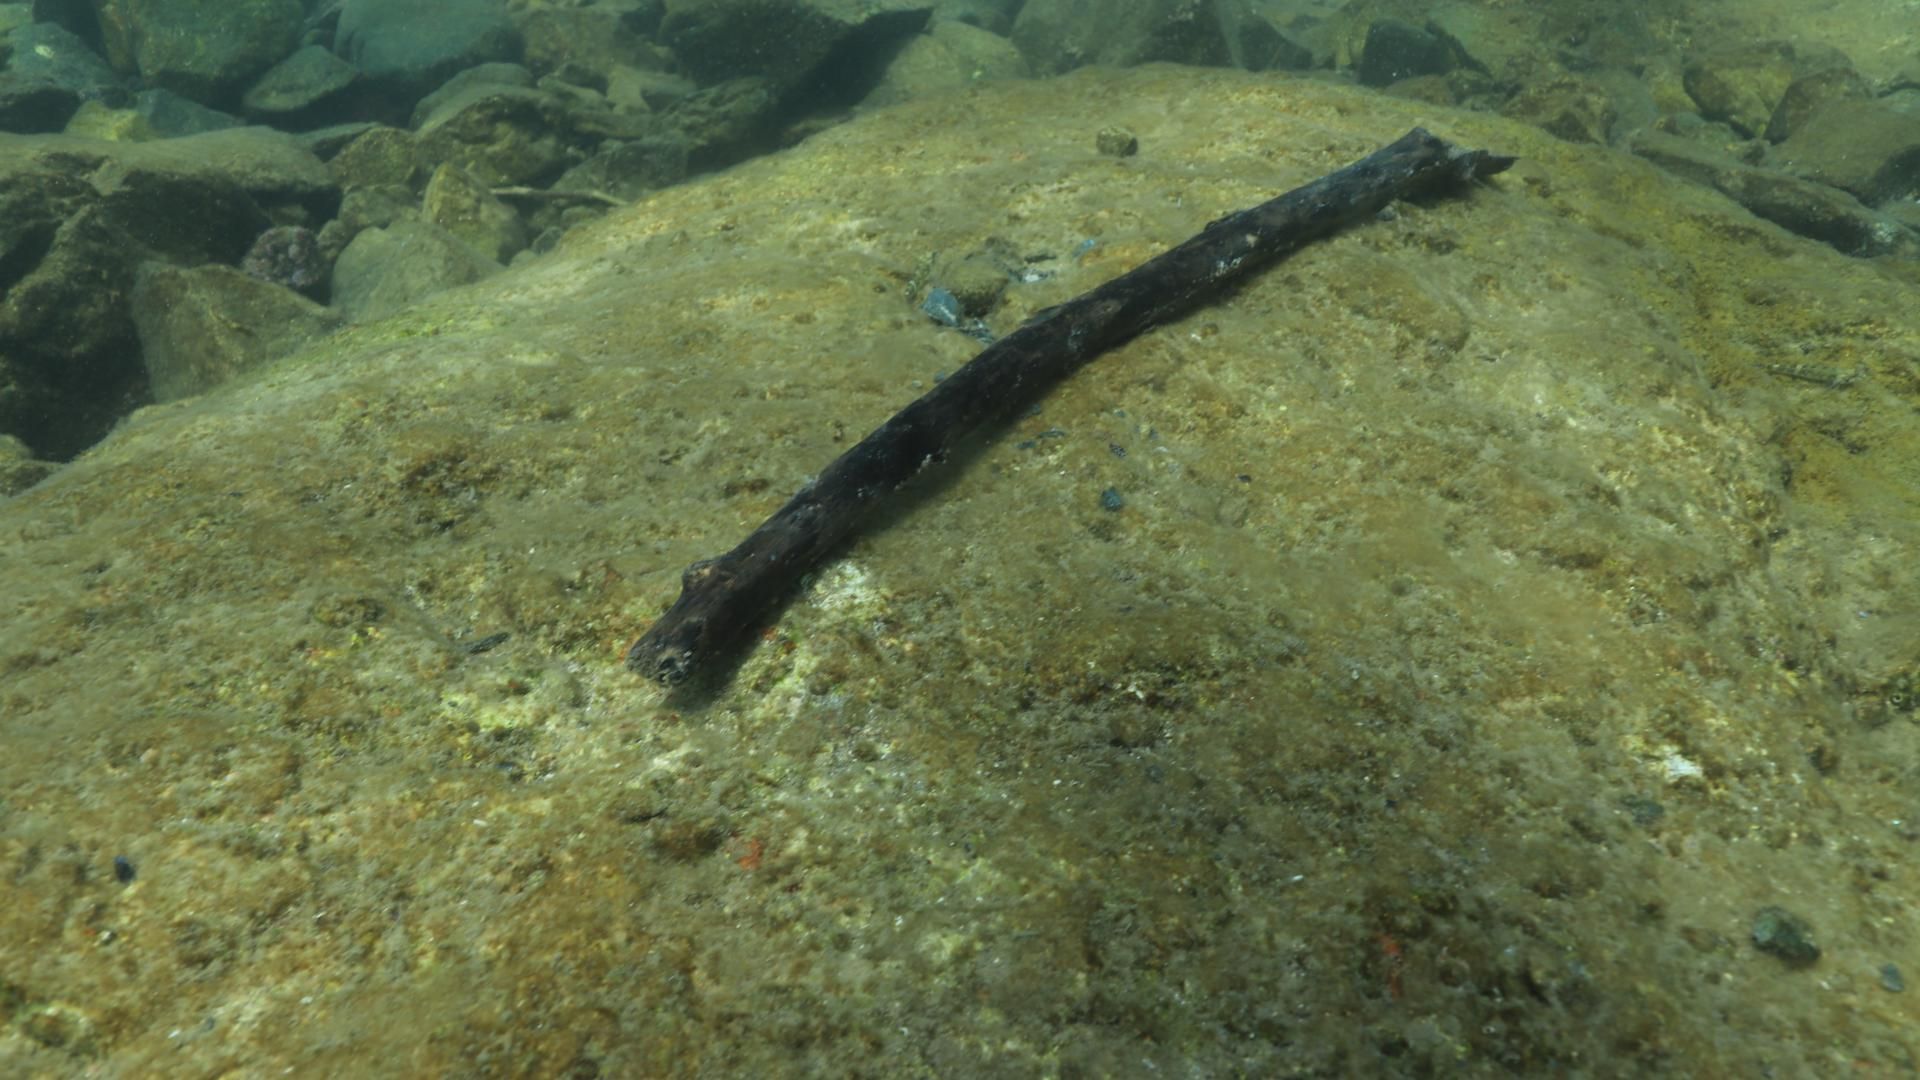wood: (621, 123, 1523, 690)
